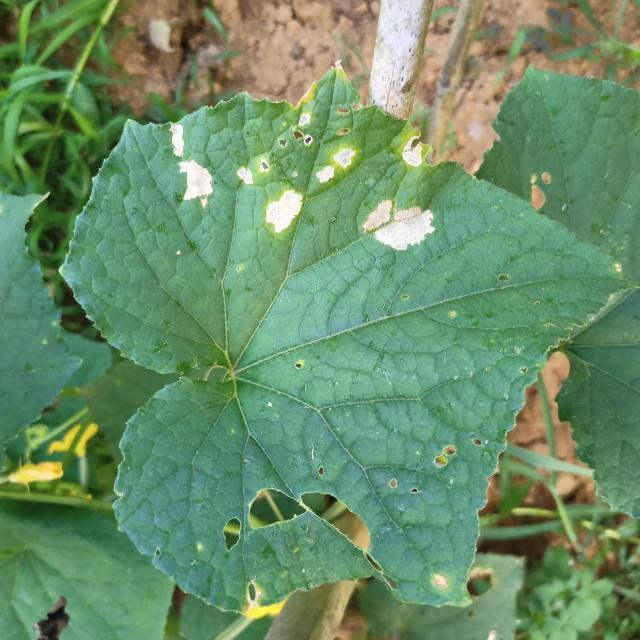disease_cucumber: (228, 109, 360, 238), (350, 192, 440, 254), (158, 121, 218, 210), (389, 127, 436, 176)
